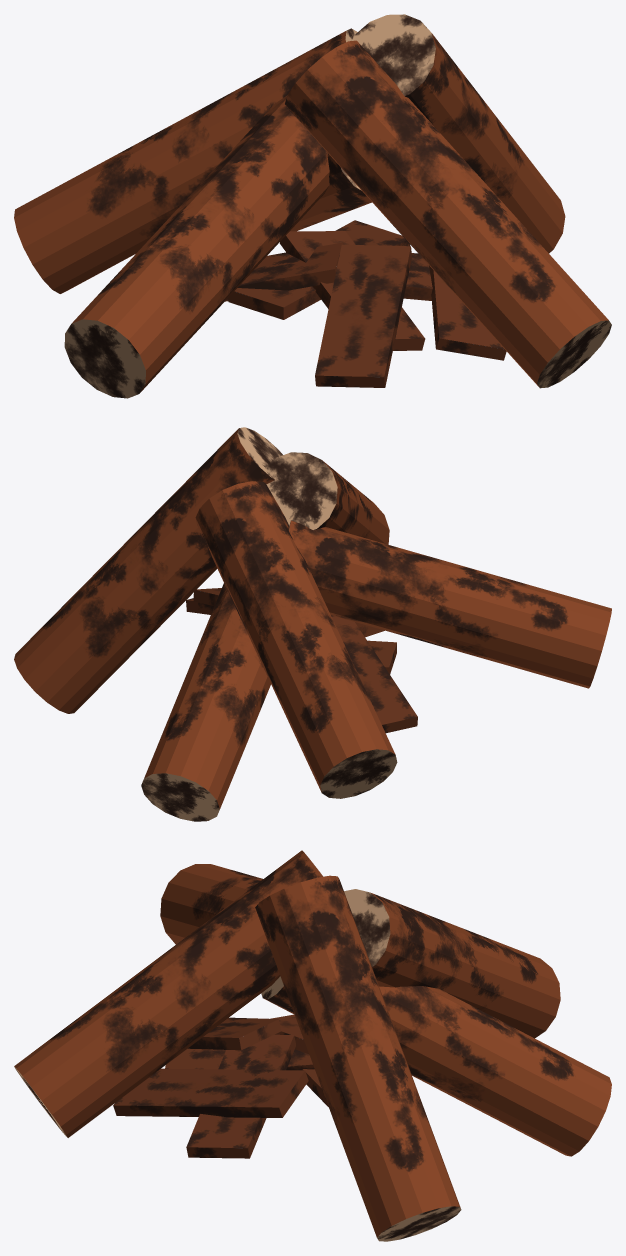
The model's file is bonfire.gltf.
3 renders of one model, top to bottom at view 1: azimuth 30°, elevation 25°; view 2: azimuth 150°, elevation 25°; view 3: azimuth 270°, elevation 25°, orthographic. The views are drawn at different scales.
Parts seen in each view (by area): view 1: 円柱.001; view 2: 円柱.001; view 3: 円柱.001.
Boxes of the visible parts, bbox=[...] form: 円柱.001: bbox=[14, 14, 611, 398]; 円柱.001: bbox=[14, 427, 611, 821]; 円柱.001: bbox=[14, 850, 611, 1241].
Bounding box in the file's own units: 2.21 × 1.21 × 2.12.
1 material, 1 textured.
